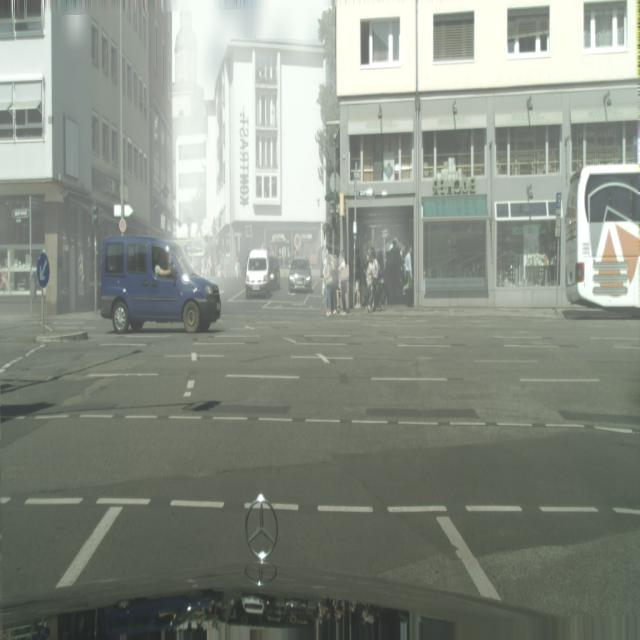car: (367, 274, 386, 312)
motorcycle: (564, 163, 640, 311)
person: (367, 249, 379, 311), (323, 251, 333, 317), (403, 244, 413, 308), (339, 250, 349, 313), (330, 252, 339, 314)
rider: (100, 234, 222, 334)
truck: (100, 234, 222, 334), (245, 249, 273, 297), (288, 258, 313, 294)
